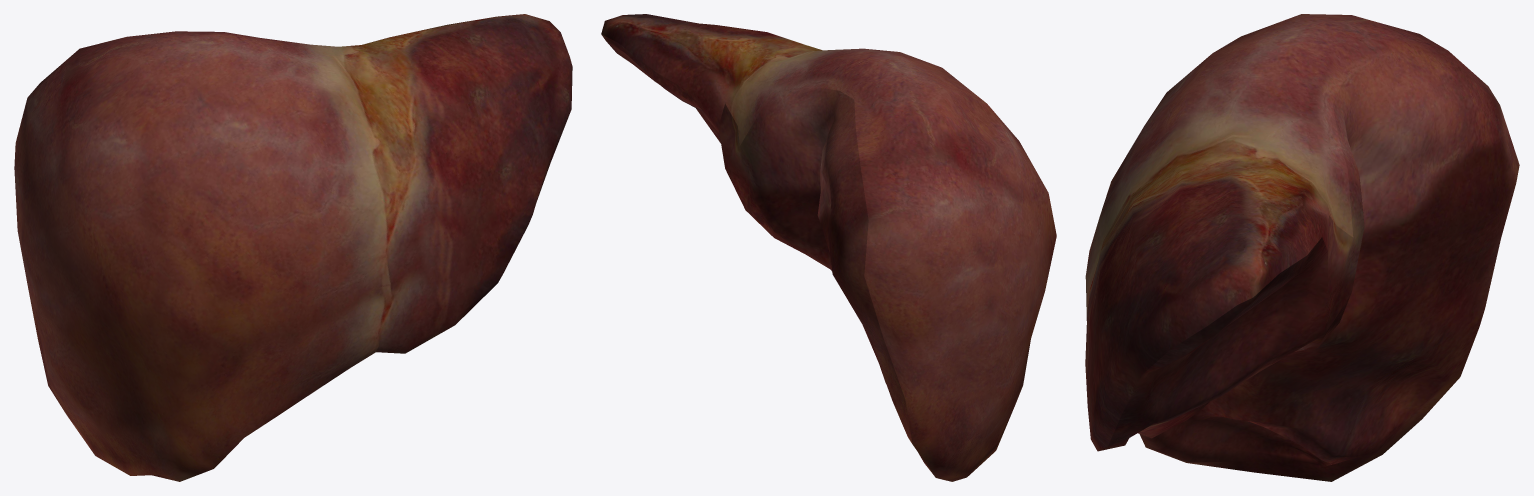
Rendered from Adam_Liver.dae.
The picture shows the model from 3 angles, left to right: view 1: azimuth 30°, elevation 25°; view 2: azimuth 150°, elevation 25°; view 3: azimuth 270°, elevation 25°; orthographic projection. The views are drawn at different scales.
Parts seen in each view (by area): view 1: 6.003; view 2: 6.003; view 3: 6.003.
Part boxes in pixels (left/top/right/bottom): 6.003: left=14, top=14, right=572, bottom=481; 6.003: left=601, top=14, right=1056, bottom=481; 6.003: left=1085, top=14, right=1519, bottom=481.
Size of the model in its own units: 5.98 by 3.89 by 4.86.
1 material, 1 textured.
